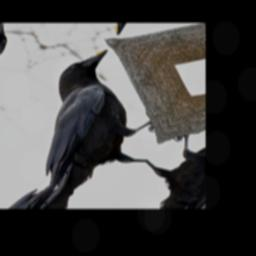Crow: (0, 41, 200, 209)
